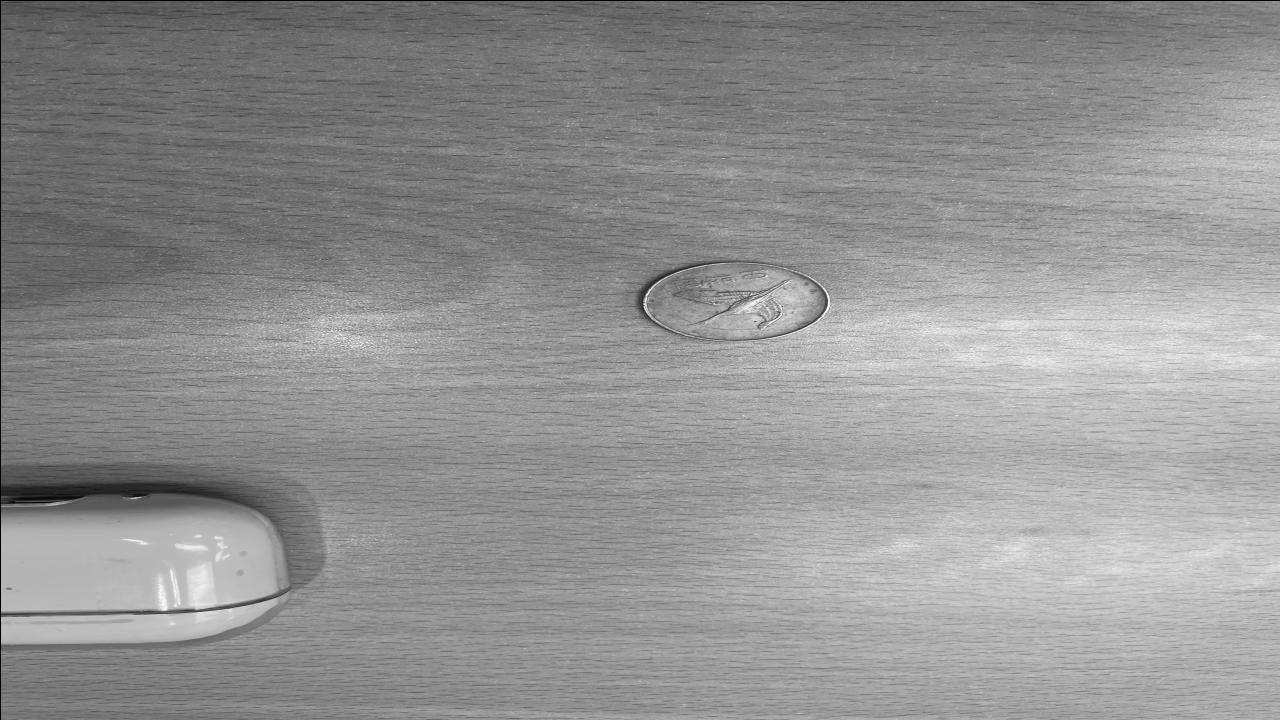coin: (641, 261, 832, 341)
